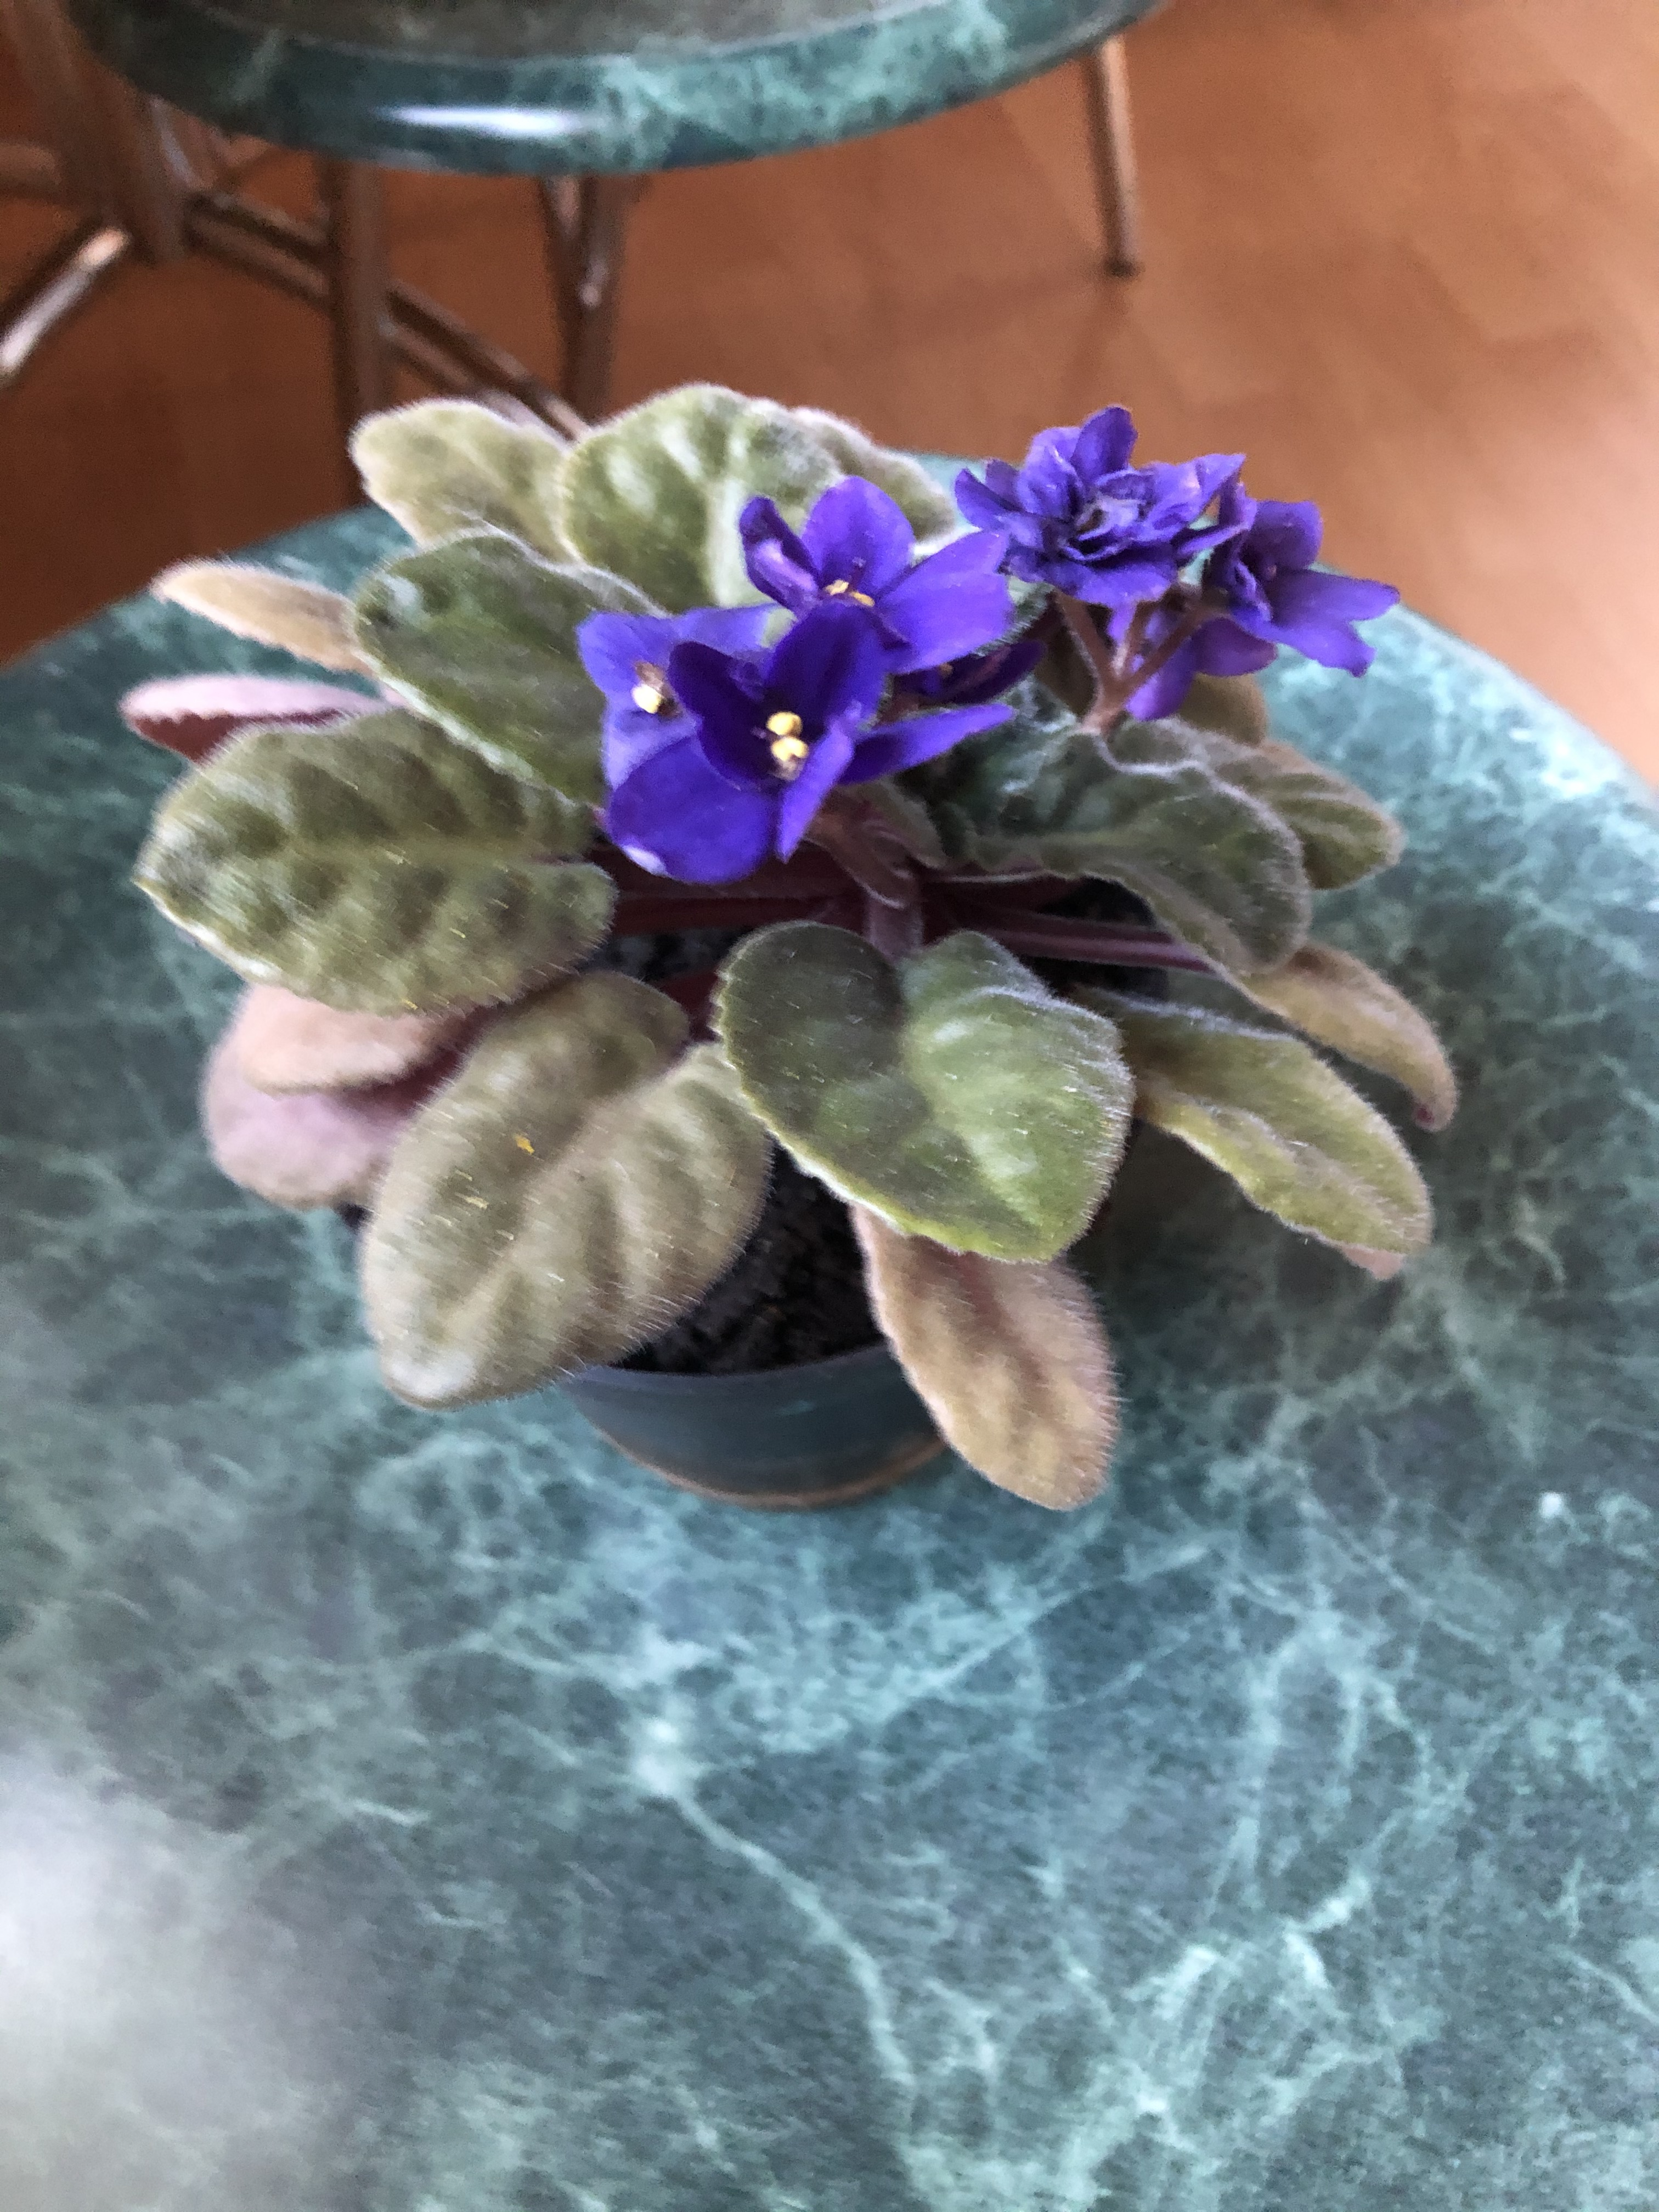ignore: (120, 336, 1480, 1559)
